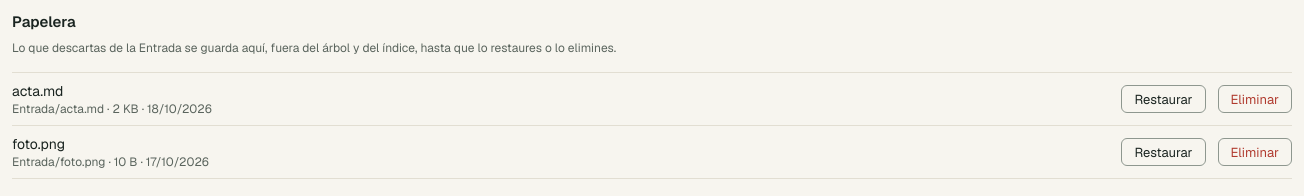
Trash (Papelera) › restores an item and refreshes the vault tree
Click the button with test id "restore-2" at coordinates (1164, 99), box 1122,85 -> 1206,113
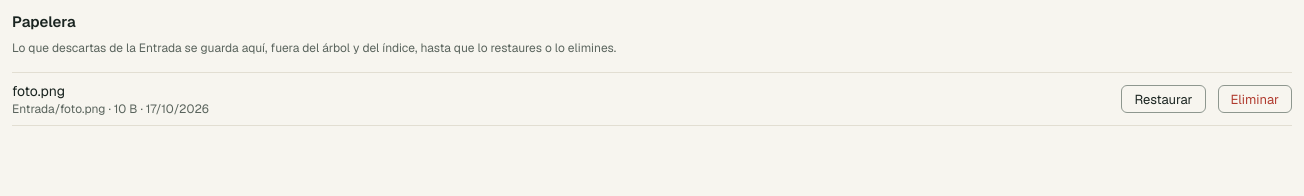
Expected: the list item with test id "trash-item-2" is gone
